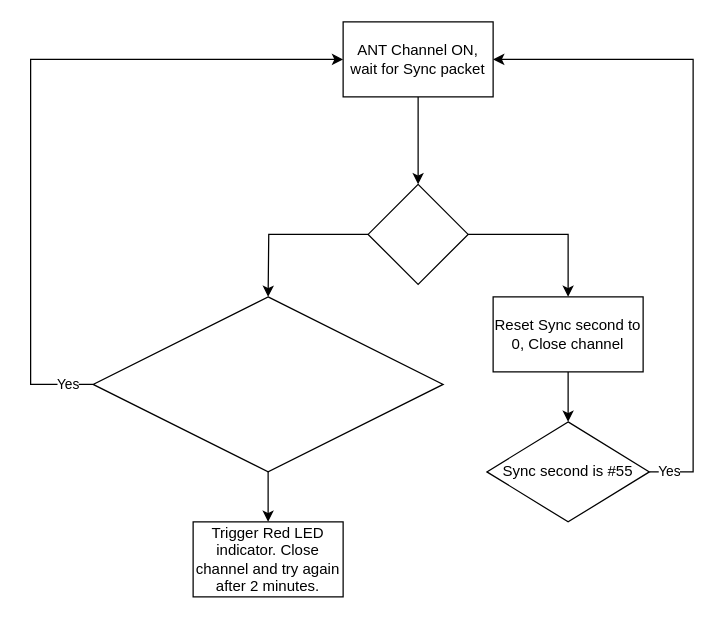
Some shapes in this 725 by 619 pixel diagram are drawn without their labels. The shapes that lost their labels are listed below. From the top down, each one's centre as x and y in pixels, then its label:
At (x=417, y=233): "Receive?".
At (x=267, y=384): "Sync second > 300 (No sync after 5 minutes)".
